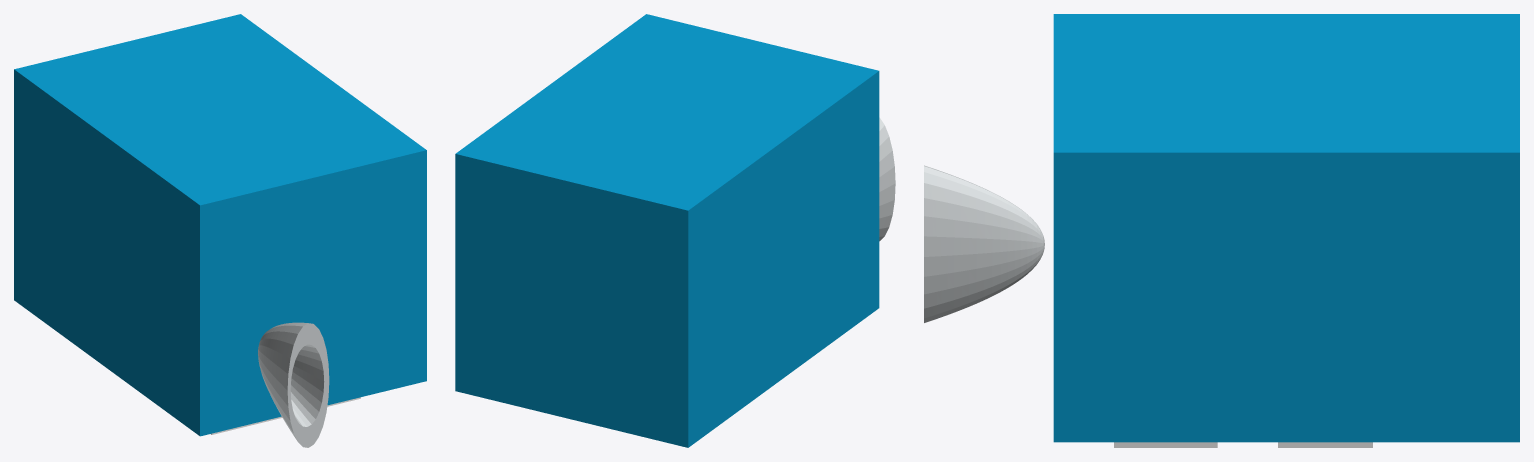
File: tinker.obj
3 views of the same model, side by side, from view 1: azimuth 30°, elevation 25°; view 2: azimuth 150°, elevation 25°; view 3: azimuth 270°, elevation 25° (orthographic). The views are drawn at different scales.
Visible parts, largest first — view 1: group_0_40919, group_0_14541540; view 2: group_0_40919, group_0_14541540; view 3: group_0_40919, group_0_14541540, group_0_16448250.
Boxes of the visible parts, x1,y1,x2,y2 form: group_0_40919: (14,14,426,436); group_0_14541540: (258,322,329,447); group_0_40919: (455,14,879,447); group_0_14541540: (879,117,895,241); group_0_40919: (1053,14,1519,442); group_0_14541540: (924,165,1044,322); group_0_16448250: (1114,442,1372,447).
Size of the model in its own units: 38 by 41 by 69.
